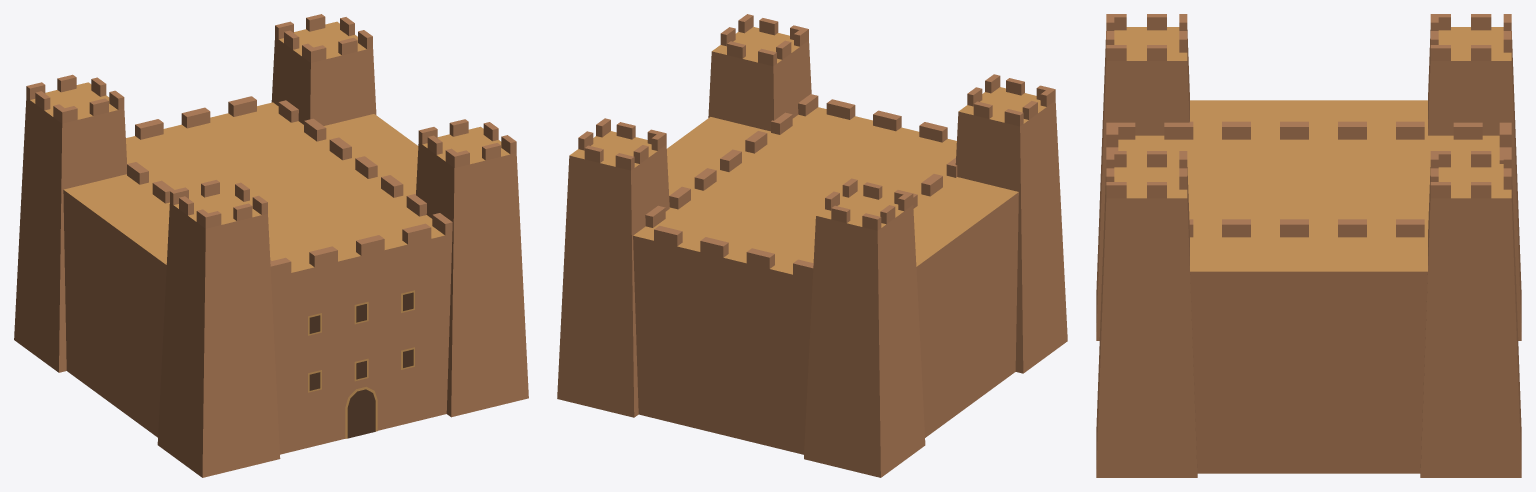
Rendered from kasbah.glb.
3 views of the same model, side by side, from view 1: azimuth 30°, elevation 25°; view 2: azimuth 150°, elevation 25°; view 3: azimuth 270°, elevation 25° (orthographic). The views are drawn at different scales.
Parts seen in each view (by area): view 1: kasbah; view 2: kasbah; view 3: kasbah.
Boxes of the visible parts, x1=… form: kasbah: x1=14, y1=14, x2=528, y2=477; kasbah: x1=557, y1=14, x2=1067, y2=477; kasbah: x1=1096, y1=14, x2=1521, y2=477.
Size of the model in its own units: 21 by 15.7 by 21.
1 material, 1 textured.
